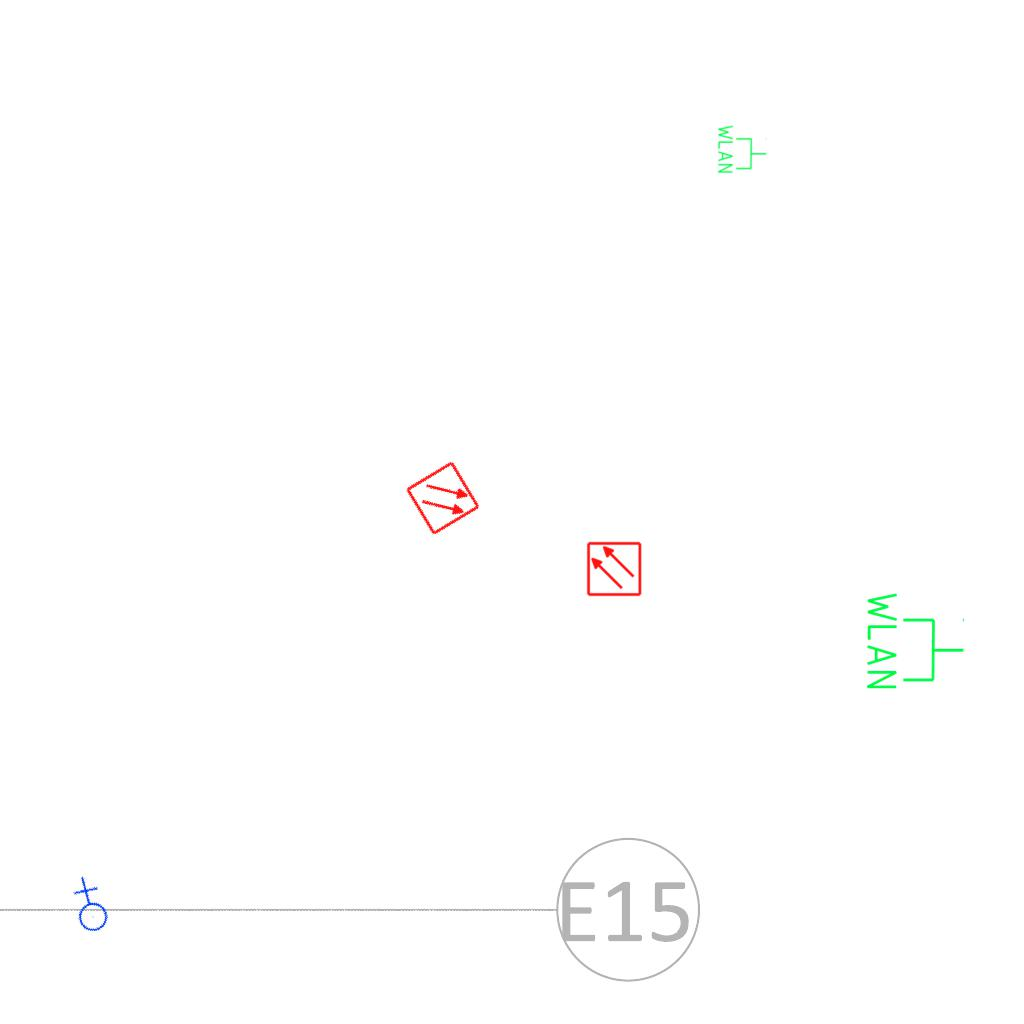Elektroanschluss_allgemein_230V_Geraeteanschlussdose_230V: (56, 874, 121, 941)
RMO_Rauchmelder_optischer: (404, 459, 482, 537), (586, 541, 642, 597)
WLAN: (863, 588, 967, 693), (716, 123, 768, 175)
